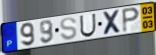9: (18, 22, 36, 48), (38, 19, 55, 45)
P: (121, 6, 141, 34)
S: (59, 16, 78, 41)
U: (79, 13, 97, 39)
X: (102, 9, 124, 36)
